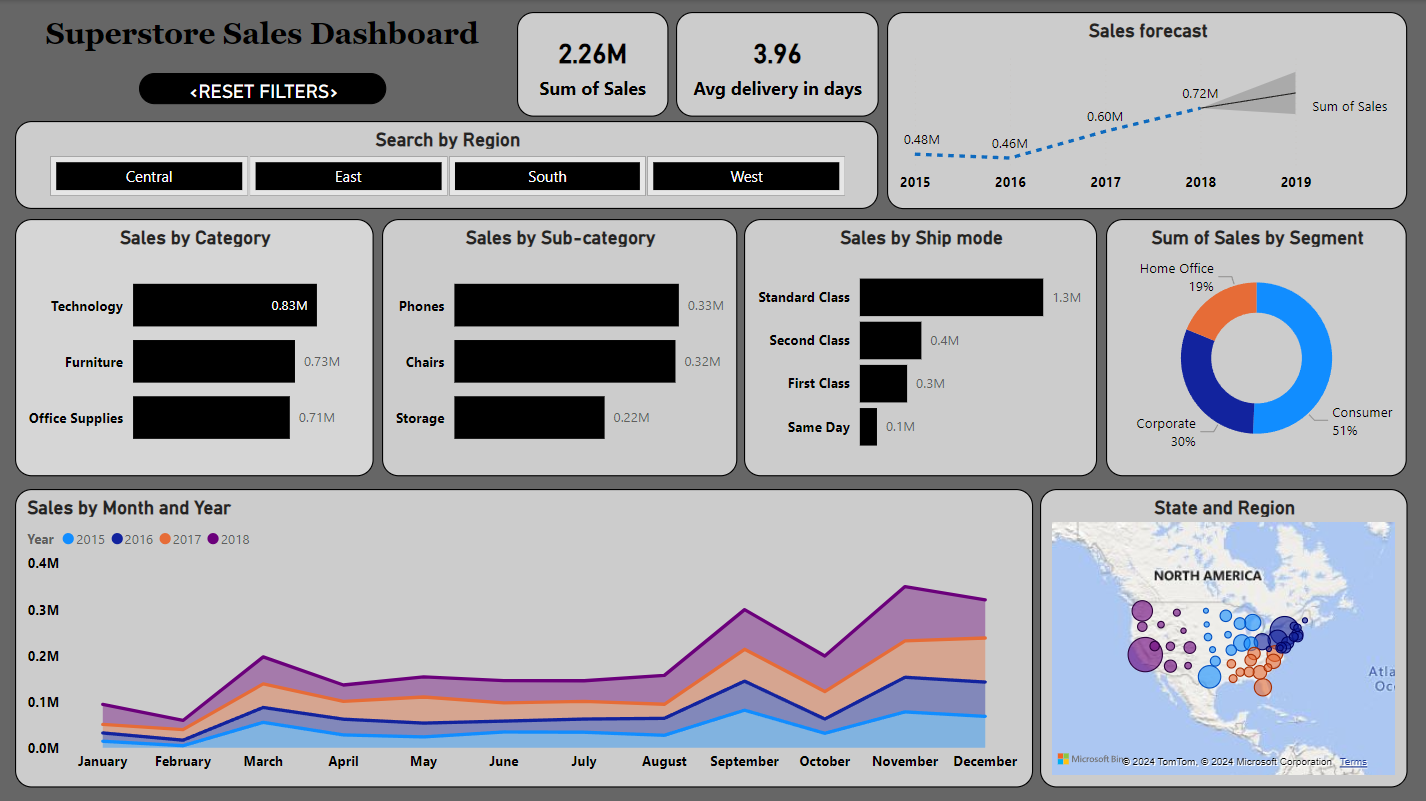

Layout of this report page (visuals, bound fields, positions):
{"tool":"powerbi","page":{"name":"Page 1","canvas":[1280,720],"ordinal":0},"visuals":[{"type":"clusteredBarChart","title":"Sales by Category","fields":{"Category":["train.Category"],"Y":["Sum(train.Sales)"]},"box":[13.9,197,321.8,230.7],"z":0},{"type":"clusteredBarChart","title":"Sales by Sub-category","fields":{"Y":["Sum(train.Sales)"],"Category":["train.Sub-Category"]},"box":[342.6,197,318.8,230.7],"z":1000},{"type":"clusteredBarChart","title":"Sales by Ship mode","fields":{"Category":["train.Ship Mode"],"Y":["Sum(train.Sales)"]},"box":[668.3,197,316.8,230.7],"z":2000},{"type":"stackedAreaChart","title":"Sales by Month and Year","fields":{"Y":["Sum(train.Sales)"],"Category":["train.Order Date.Variation.Date Hierarchy.Month"],"Series":["train.Order Date.Variation.Date Hierarchy.Year"]},"box":[13.9,438.6,913.9,268.3],"z":3000},{"type":"card","fields":{"Values":["Sum(train.Sales)"]},"box":[464.4,10.9,135.6,94.1],"z":4000},{"type":"map","title":"State and Region","fields":{"Category":["train.State"],"Series":["train.Region"],"Size":["Sum(train.Sales)"]},"box":[933.7,438.6,329.7,268.3],"z":5000},{"type":"donutChart","fields":{"Category":["train.Segment"],"Y":["Sum(train.Sales)"]},"box":[993.1,197,270.3,230.7],"z":6000},{"type":"slicer","title":"Search by Region","fields":{"Values":["train.Region"]},"box":[13.9,108.9,775.2,79.2],"z":8000},{"type":"textbox","box":[13.9,10.9,443.6,47.5],"z":9000},{"type":"card","fields":{"Values":["Avg(train.AvgDelivery)"]},"box":[606.9,10.9,182.2,94.1],"z":9001},{"type":"lineChart","title":"Sales forecast ","fields":{"Y":["Sum(train.Sales)"],"Category":["train.Order Date.Variation.Date Hierarchy.Year","train.Order Date.Variation.Date Hierarchy.Quarter","train.Order Date.Variation.Date Hierarchy.Month","train.Order Date.Variation.Date Hierarchy.Day"]},"box":[796,10.9,467.3,177.2],"z":9002},{"type":"actionButton","title":"<RESET FILTERS>","box":[124.8,65.3,221.8,27.7],"z":9004}]}

Visuals, with their boxes in screenshot pixels (x1, y1, x2, y2), scaled from the page's 1280x720 canvas onto the 1426x801 screenshot:
"Sales by Category" clusteredBarChart: <bbox>15, 219, 374, 476</bbox>
"Sales by Sub-category" clusteredBarChart: <bbox>382, 219, 737, 476</bbox>
"Sales by Ship mode" clusteredBarChart: <bbox>745, 219, 1097, 476</bbox>
"Sales by Month and Year" stackedAreaChart: <bbox>15, 488, 1034, 786</bbox>
card - Sum(train.Sales): <bbox>517, 12, 668, 117</bbox>
"State and Region" map: <bbox>1040, 488, 1408, 786</bbox>
donutChart - train.Segment x Sum(train.Sales): <bbox>1106, 219, 1408, 476</bbox>
"Search by Region" slicer: <bbox>15, 121, 879, 209</bbox>
textbox: <bbox>15, 12, 510, 65</bbox>
card - Avg(train.AvgDelivery): <bbox>676, 12, 879, 117</bbox>
"Sales forecast " lineChart: <bbox>887, 12, 1407, 209</bbox>
"<RESET FILTERS>" actionButton: <bbox>139, 73, 386, 103</bbox>
